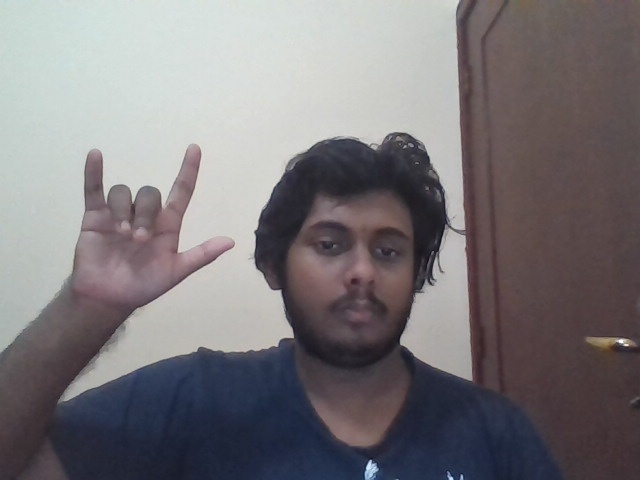iloveyou: (70, 143, 236, 311)
